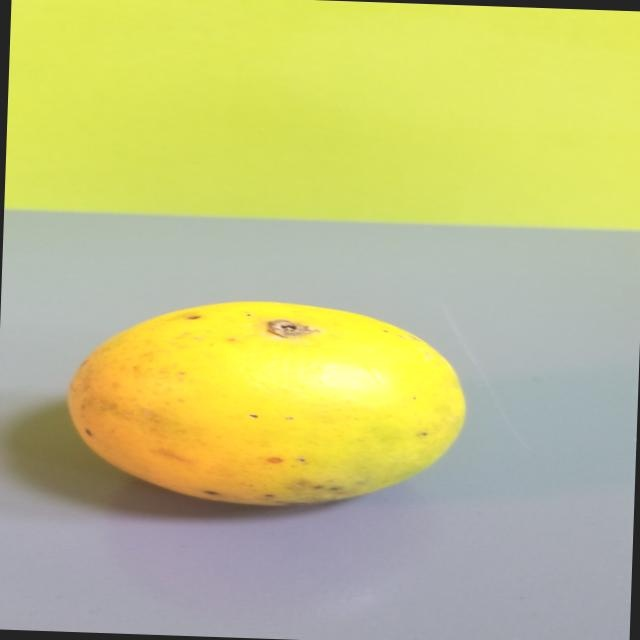agrume: (58, 284, 474, 525)
